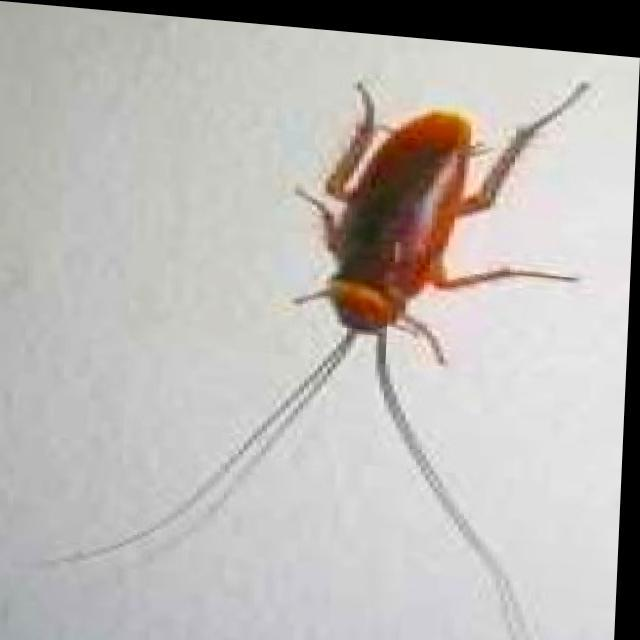cockroach: (221, 61, 637, 447)
